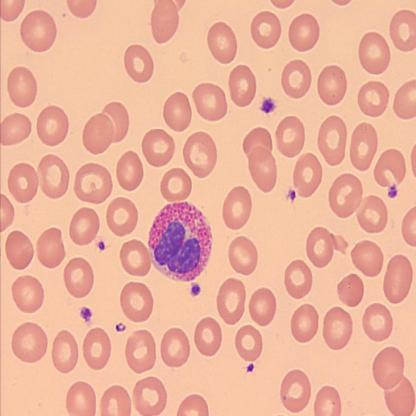Eosinophil: (145, 200, 211, 281)
